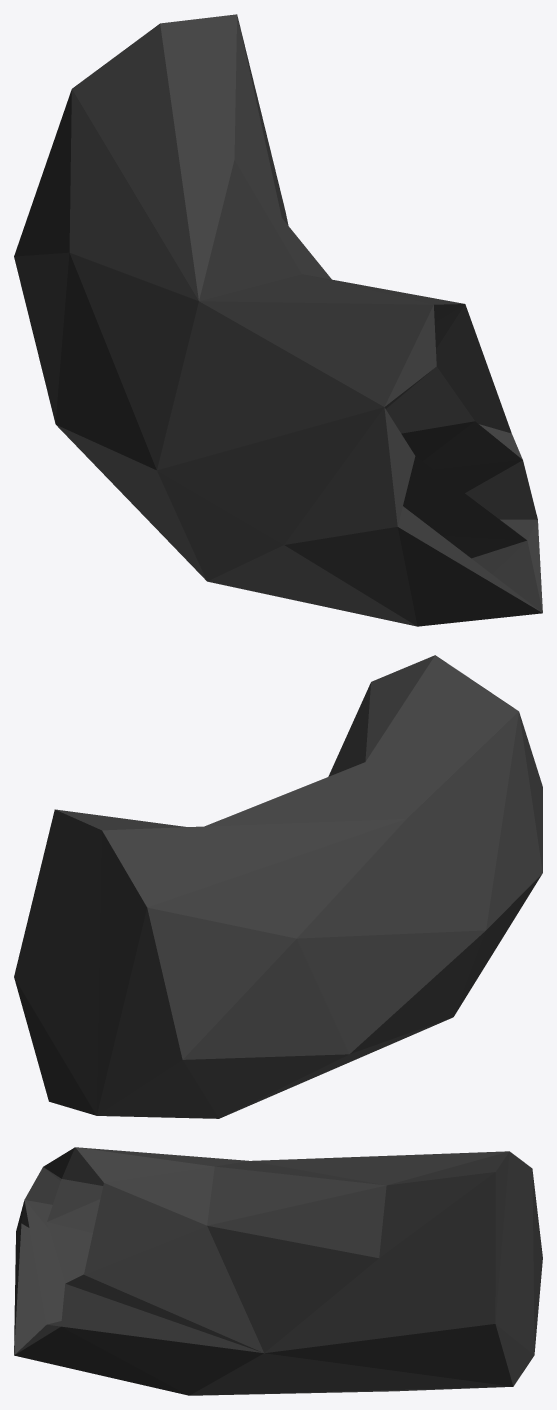
3 renders of one model, top to bottom at view 1: azimuth 30°, elevation 25°; view 2: azimuth 150°, elevation 25°; view 3: azimuth 270°, elevation 25°, orthographic. The views are drawn at different scales.
Parts seen in each view (by area): view 1: world; view 2: world; view 3: world.
Boxes of the visible parts, left/top/right/bottom form: world: left=14, top=14, right=542, bottom=626; world: left=14, top=655, right=542, bottom=1118; world: left=14, top=1147, right=542, bottom=1395.
Size of the model in its own units: 0.153 by 0.1697 by 0.3138.
1 material, 1 textured.
